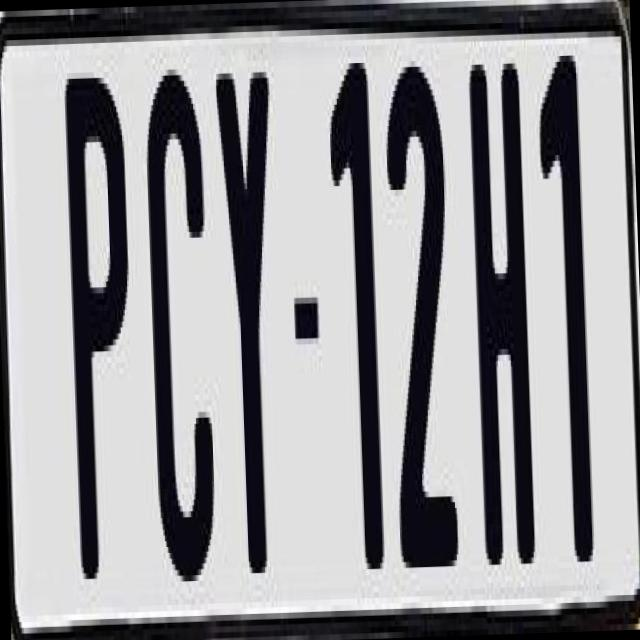1: (324, 50, 390, 592), (536, 43, 599, 574)
2: (378, 66, 462, 580)
C: (143, 62, 218, 600)
H: (466, 45, 533, 547)
P: (62, 76, 143, 579)
Y: (214, 54, 292, 556)
